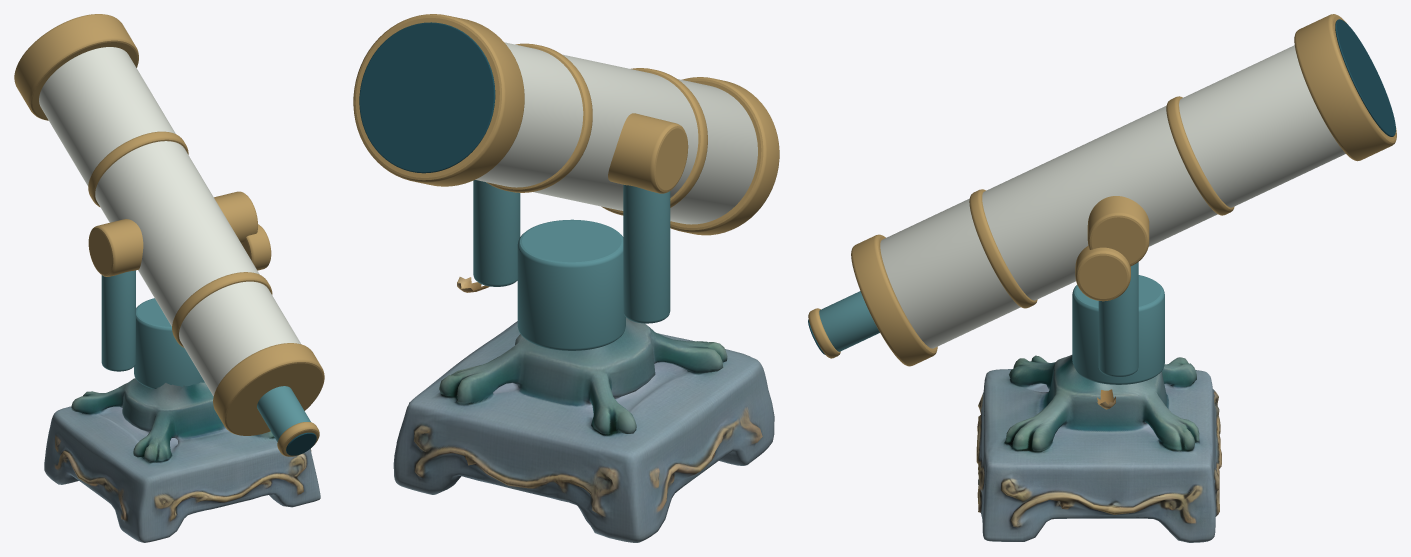
Rendered from telescope.glb.
The picture shows the model from 3 angles, left to right: view 1: azimuth 30°, elevation 25°; view 2: azimuth 150°, elevation 25°; view 3: azimuth 270°, elevation 25°; orthographic projection. The views are drawn at different scales.
Parts seen in each view (by area): view 1: Straight enamel optical tube, model, Aligned brass collar, Aligned brass collar.003, Elevation axle, Pedestal neck, Mount fork, Eyepiece tube, Aligned brass collar.002, Aligned brass collar.001, Focus knob, Eyepiece rim (+1 smaller); view 2: model, Straight enamel optical tube, Recessed objective lens, Pedestal neck, Aligned brass collar.003, Mount fork, Elevation axle, Mount fork.001, Aligned brass collar, Aligned brass collar.002, Aligned brass collar.001; view 3: Straight enamel optical tube, model, Aligned brass collar.003, Pedestal neck, Aligned brass collar, Mount fork.001, Elevation axle, Recessed objective lens, Focus knob, Eyepiece tube, Aligned brass collar.001, Aligned brass collar.002.
Boxes of the visible parts, x1,y1,x2,y2 form: Straight enamel optical tube: (39,47,300,396); model: (44,378,320,542); Aligned brass collar: (213,343,324,435); Aligned brass collar.003: (14,14,138,120); Elevation axle: (88,191,257,276); Pedestal neck: (134,298,204,388); Mount fork: (101,270,135,371); Eyepiece tube: (257,386,310,441); Aligned brass collar.002: (88,131,188,207); Aligned brass collar.001: (172,272,272,347); Focus knob: (242,224,271,270); Eyepiece rim: (277,422,319,456); model: (393,277,774,542); Straight enamel optical tube: (475,42,757,224); Recessed objective lens: (359,22,495,173); Pedestal neck: (517,219,625,350); Aligned brass collar.003: (353,14,524,186); Mount fork: (623,184,670,323); Elevation axle: (608,113,688,193); Mount fork.001: (473,180,520,286); Aligned brass collar: (670,77,779,235); Aligned brass collar.002: (486,43,592,192); Aligned brass collar.001: (601,68,707,215); Straight enamel optical tube: (880,45,1345,348); model: (976,355,1221,542); Aligned brass collar.003: (1294,14,1396,161); Pedestal neck: (1072,275,1164,384); Aligned brass collar: (851,234,937,366); Mount fork.001: (1098,262,1138,376); Elevation axle: (1087,196,1149,266); Recessed objective lens: (1335,19,1395,136); Focus knob: (1075,246,1130,301); Eyepiece tube: (819,291,879,351); Aligned brass collar.001: (969,189,1037,308); Aligned brass collar.002: (1166,96,1234,215).
Bounding box in the file's own units: 0.8301 × 1.69 × 1.91.
5 materials, 1 textured.
